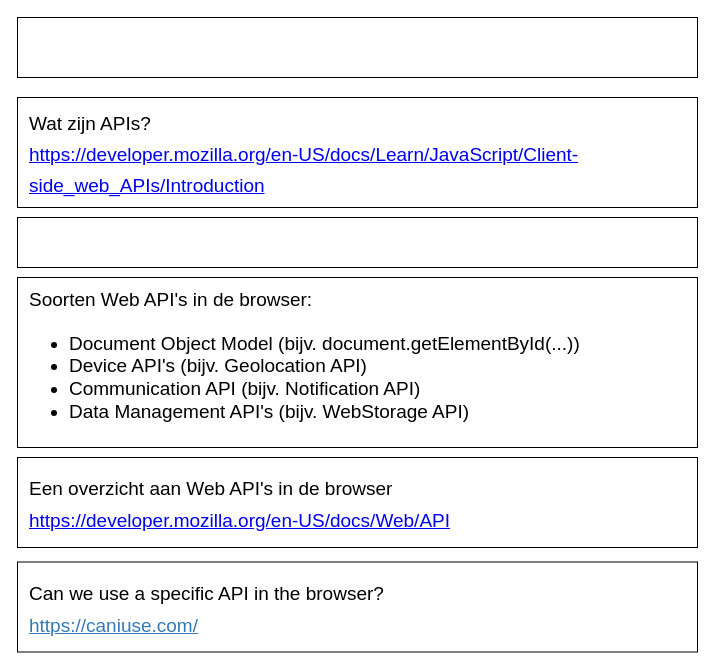
Some shapes in this 715 by 670 pixel diagram are drawn without their labels. Each missing label, with the centre of its shape:
"Web API's" belongs at point (357, 47).
"WebAPI's en Externe API's" belongs at point (357, 242).
